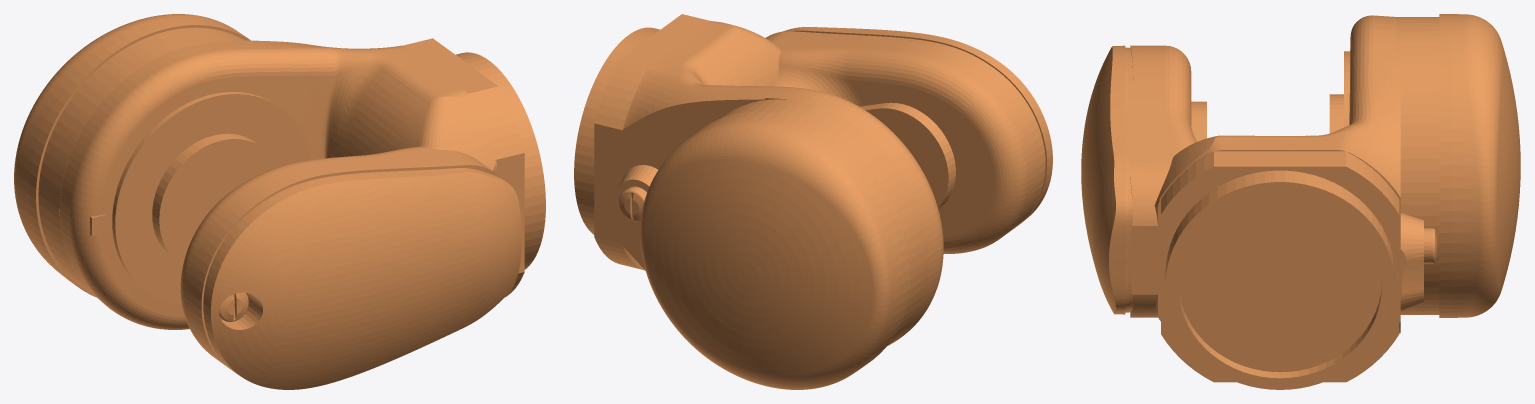
3 renders of one model, left to right at view 1: azimuth 30°, elevation 25°; view 2: azimuth 150°, elevation 25°; view 3: azimuth 270°, elevation 25°, orthographic. The views are drawn at different scales.
Visible parts, largest first — view 1: Link_5; view 2: Link_5; view 3: Link_5.
Part boxes in pixels (left/top/right/bottom): Link_5: left=14, top=14, right=545, bottom=389; Link_5: left=574, top=14, right=1052, bottom=389; Link_5: left=1081, top=14, right=1520, bottom=389.
Bounding box in the file's own units: 0.304 × 0.3065 × 0.212.
